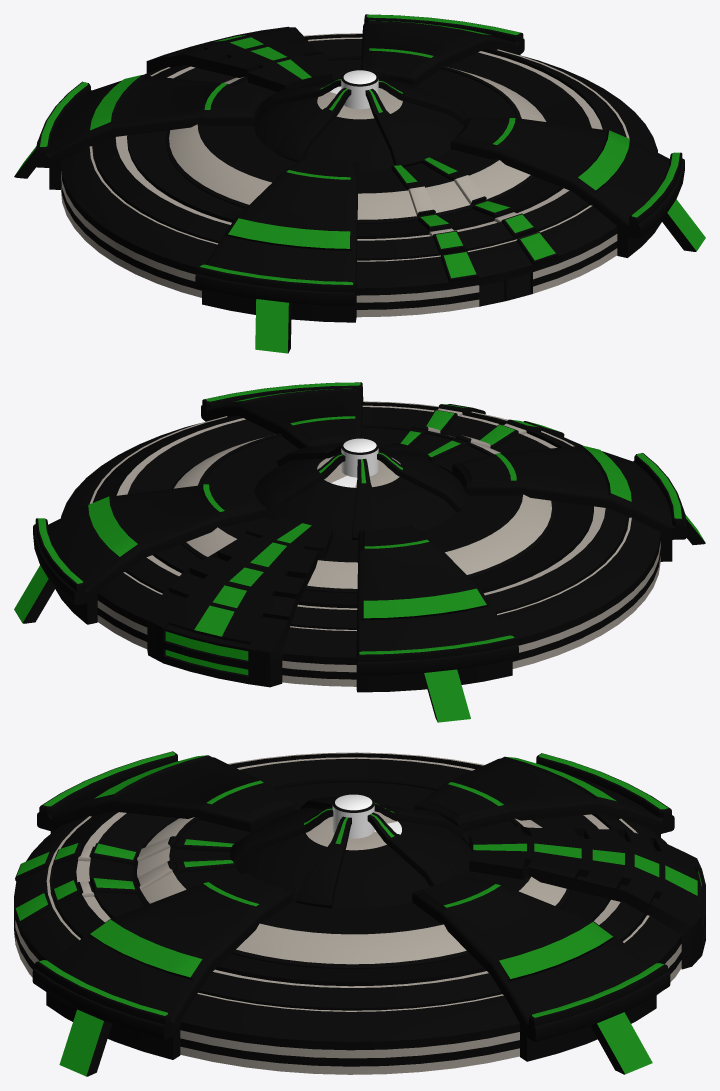
The model's file is MainMothershipuVV.fbx.
The picture shows the model from 3 angles, top to bottom: view 1: azimuth 30°, elevation 25°; view 2: azimuth 150°, elevation 25°; view 3: azimuth 270°, elevation 25°; orthographic projection. The views are drawn at different scales.
Parts seen in each view (by area): view 1: MainShip; view 2: MainShip; view 3: MainShip.
Part boxes in pixels (x1,y1,x2,y2): MainShip: (14,14,705,353); MainShip: (14,382,705,722); MainShip: (14,751,705,1076).
Bounding box in the file's own units: 14369 × 3465 × 14638.
